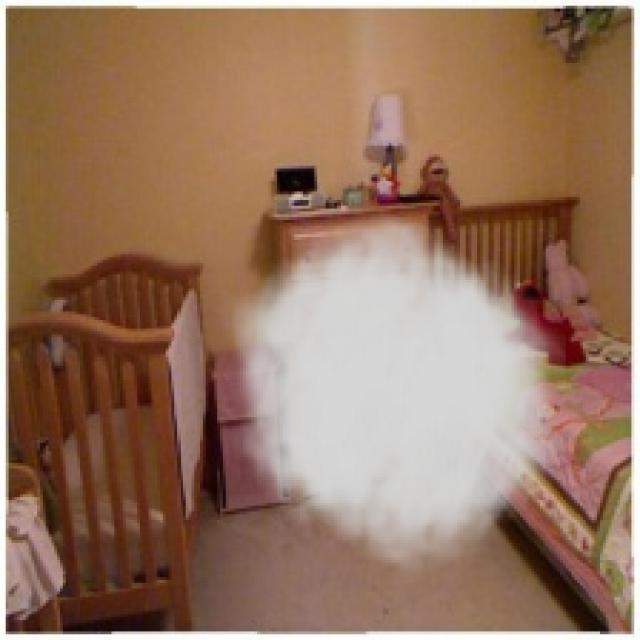Smoke: (217, 200, 566, 583)
